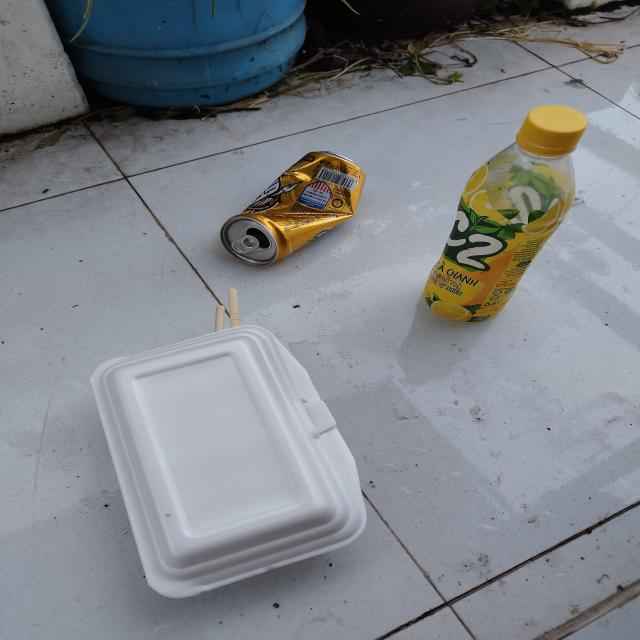bottle: (427, 102, 588, 324)
can: (220, 149, 368, 269)
foam box: (86, 323, 367, 602)
